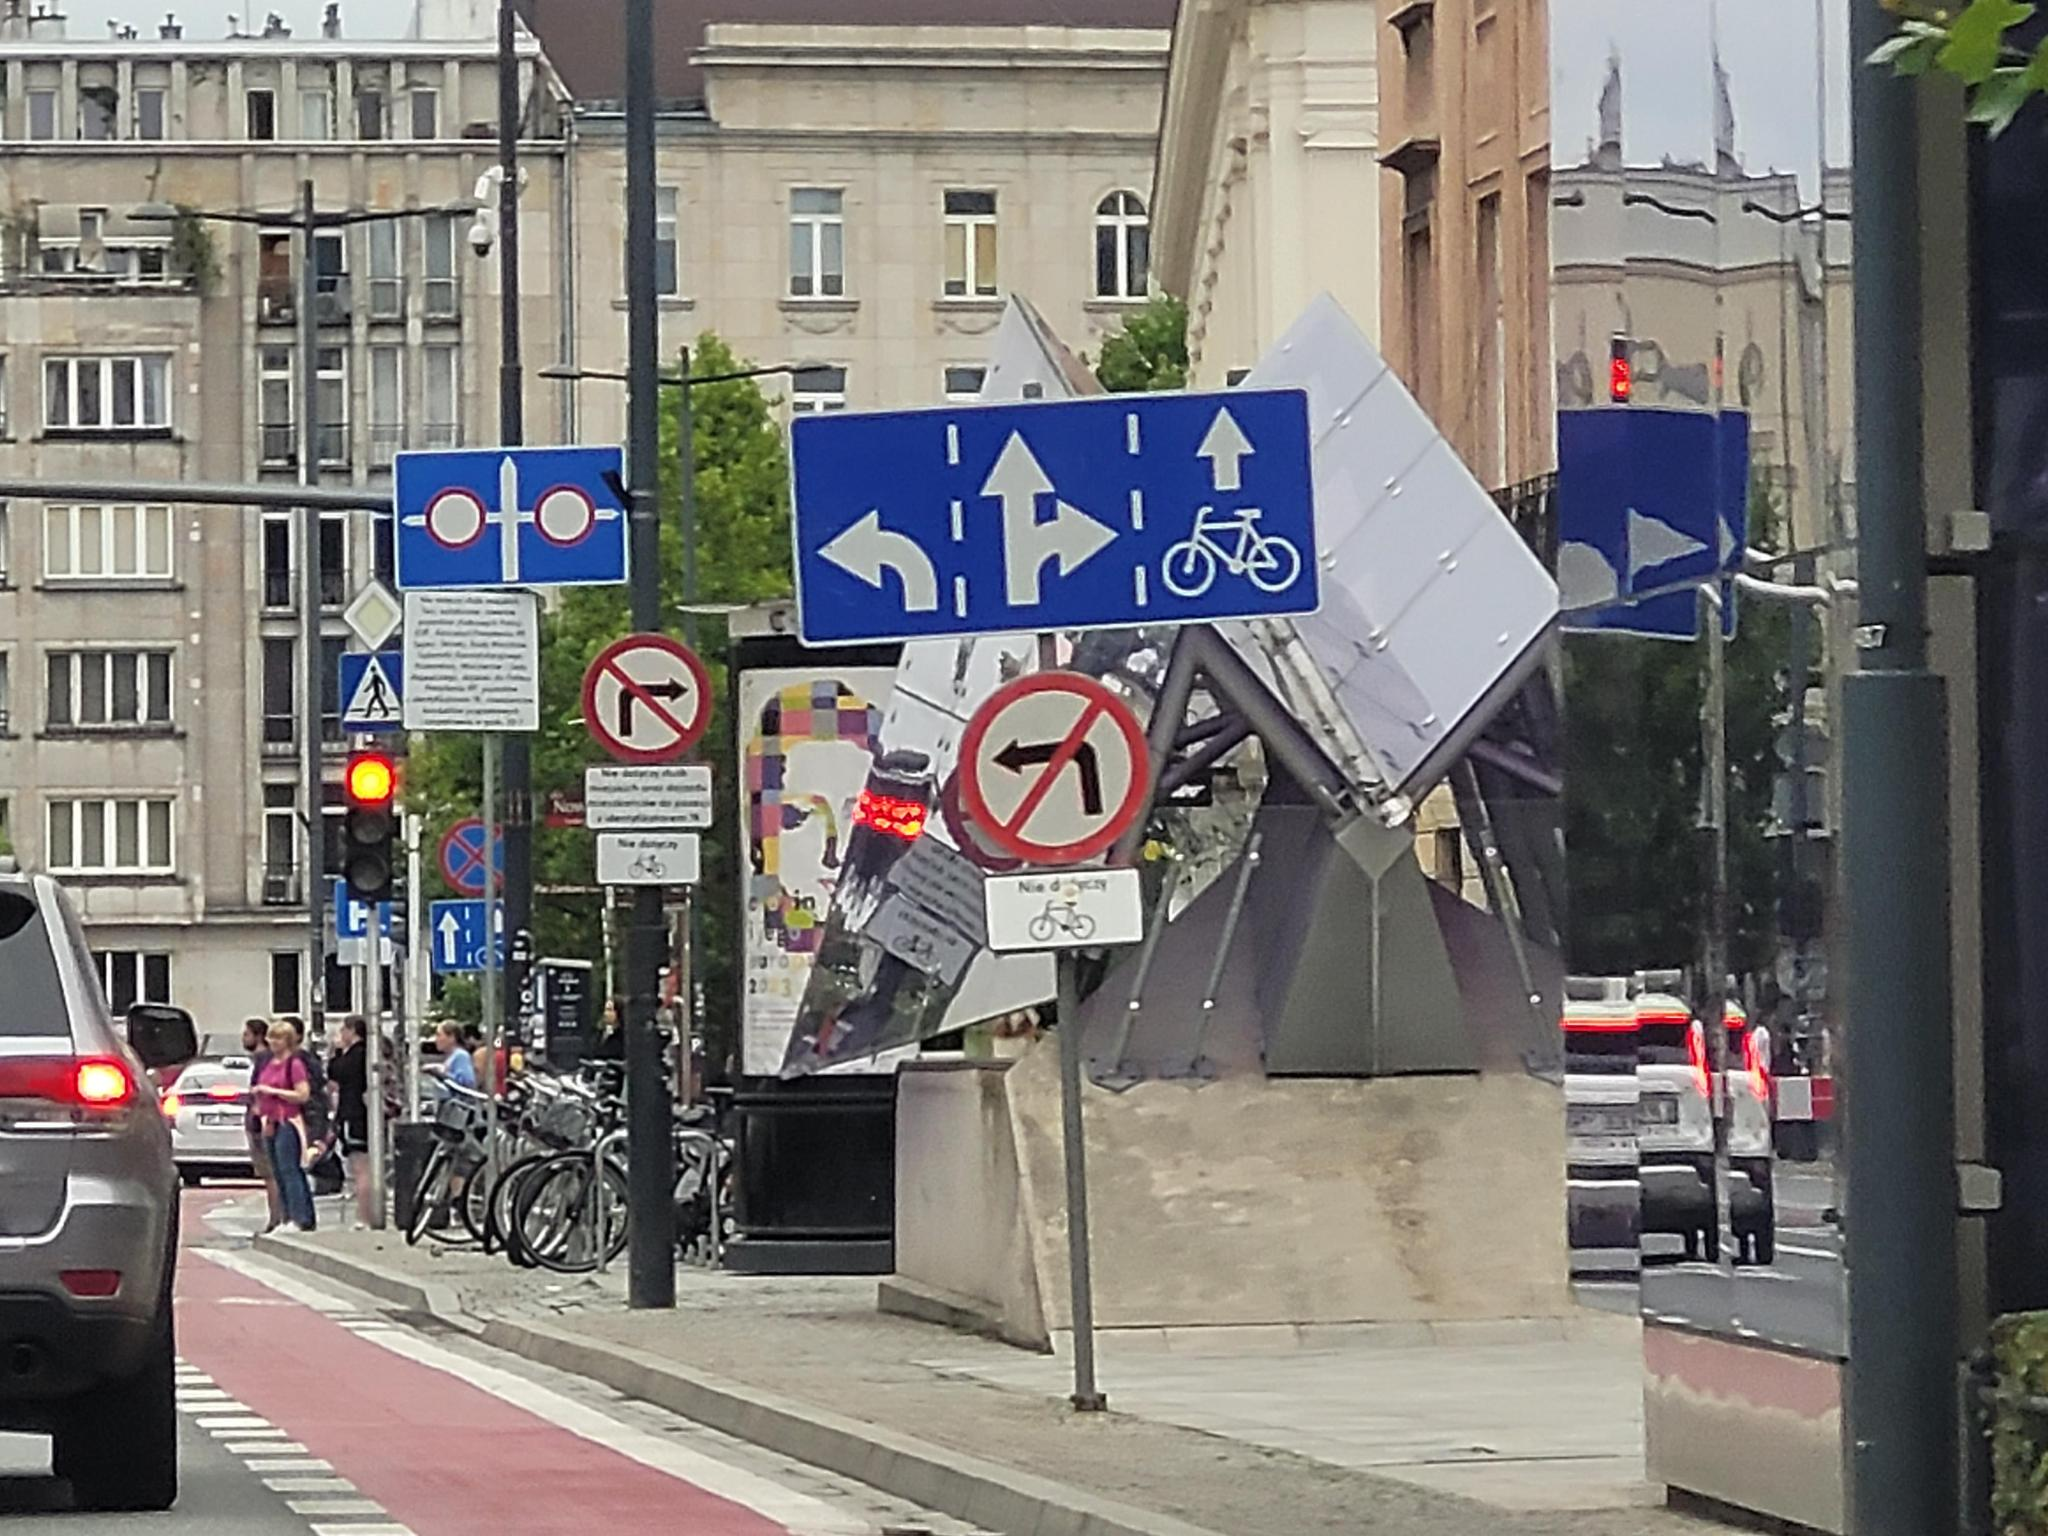information: (340, 653, 405, 728), (342, 579, 402, 650)
other: (785, 390, 1317, 632), (397, 453, 626, 582), (405, 592, 537, 729), (989, 874, 1147, 945), (584, 768, 711, 829), (595, 836, 698, 883), (432, 902, 487, 968)
prohibitory: (958, 670, 1151, 868), (579, 632, 714, 763), (437, 818, 485, 899)
